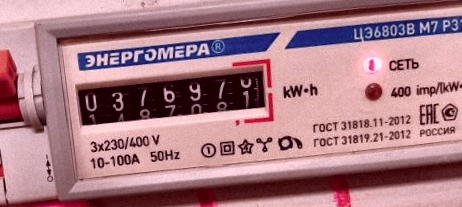0: (80, 89, 97, 112)
1: (238, 88, 252, 109)
3: (109, 89, 125, 112)
6: (159, 79, 176, 104)
7: (133, 83, 151, 109), (211, 76, 228, 100)
9: (185, 78, 201, 101)
screen: (64, 47, 281, 148)
